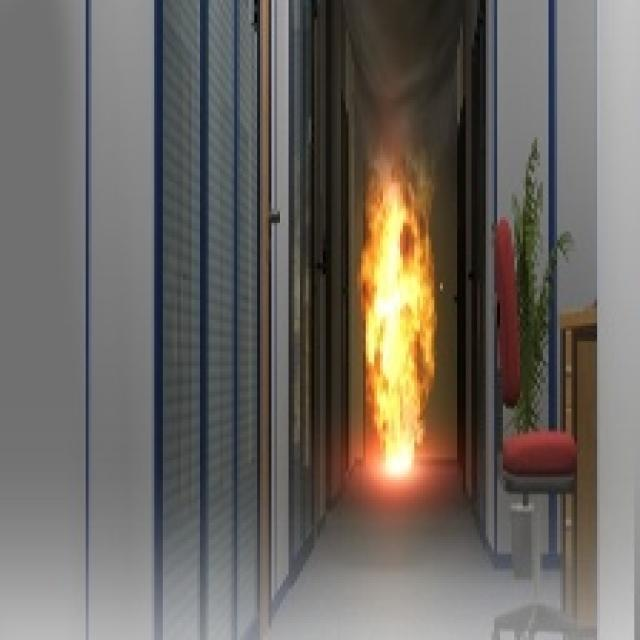Fire: (353, 163, 439, 464)
